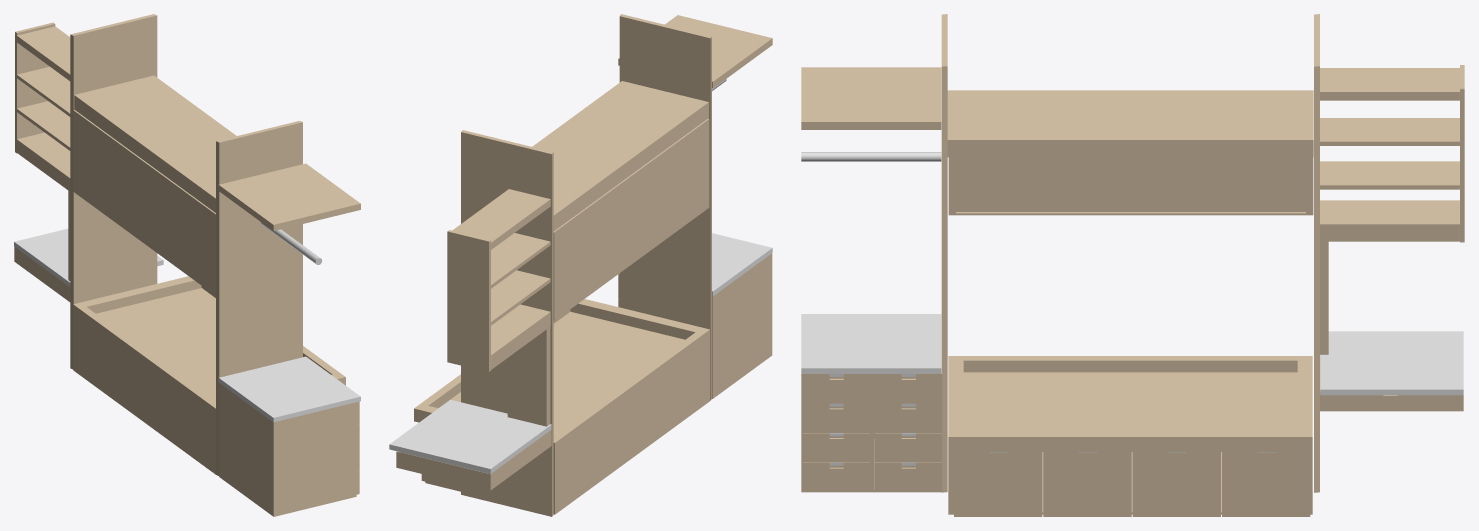
The model's file is room-wooden-furniture.fbx.
3 renders of one model, left to right at view 1: azimuth 30°, elevation 25°; view 2: azimuth 150°, elevation 25°; view 3: azimuth 270°, elevation 25°, orthographic. The views are drawn at different scales.
Visible parts, largest first — view 1: Wooden_Furniture; view 2: Wooden_Furniture; view 3: Wooden_Furniture, UnderBedDrawer1, UnderBedDrawer2, UnderBedDrawer3, UnderBedDrawer4, DresserDrawer8, DresserDrawer4, DresserDrawer5, DresserDrawer7, DresserDrawer6, DresserDrawer1, DresserDrawer3 (+1 smaller).
Part boxes in pixels (<box>): Wooden_Furniture: <box>14,14,360,516</box>; Wooden_Furniture: <box>389,14,772,516</box>; Wooden_Furniture: <box>801,14,1464,514</box>; UnderBedDrawer1: <box>954,452,1042,516</box>; UnderBedDrawer2: <box>1043,452,1131,516</box>; UnderBedDrawer3: <box>1132,452,1220,516</box>; UnderBedDrawer4: <box>1222,452,1310,516</box>; DresserDrawer8: <box>874,462,942,492</box>; DresserDrawer4: <box>802,462,869,492</box>; DresserDrawer5: <box>874,372,942,403</box>; DresserDrawer7: <box>874,433,942,462</box>; DresserDrawer6: <box>874,403,942,432</box>; DresserDrawer1: <box>802,374,869,403</box>; DresserDrawer3: <box>802,433,869,462</box>.
Size of the model in its own units: 102 by 250 by 352.
